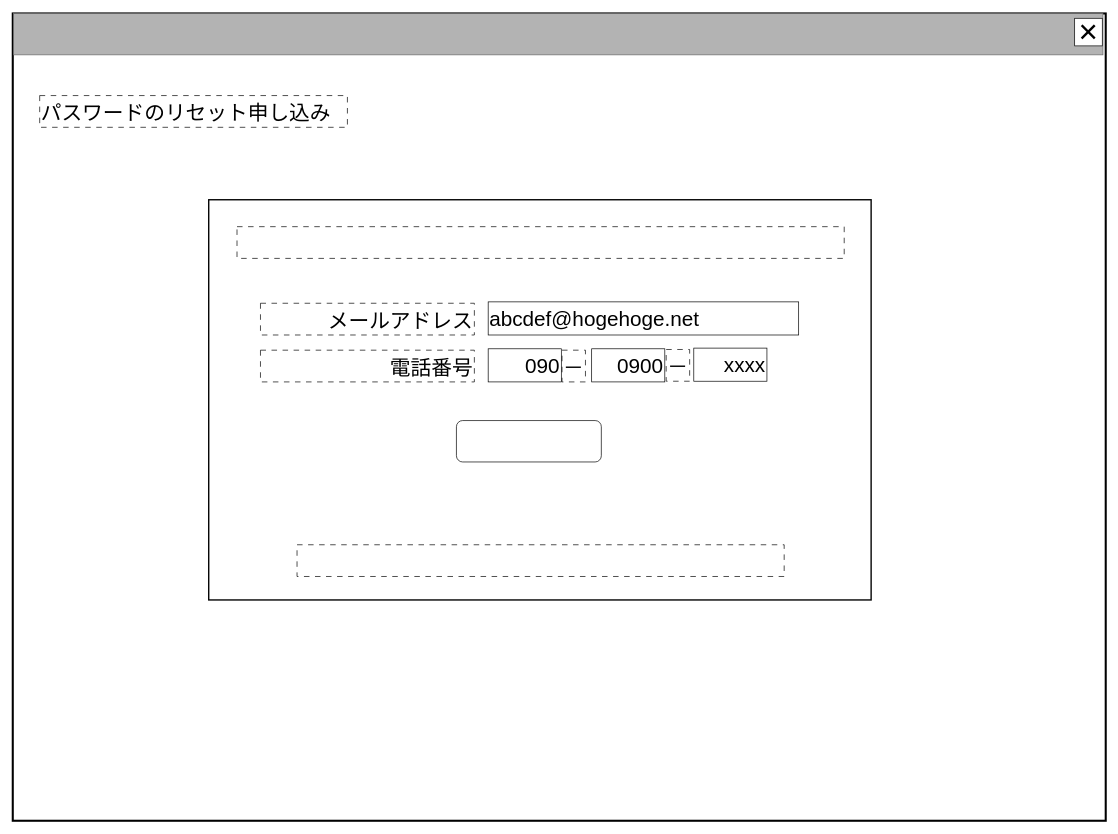
Some shapes in this 1118 by 834 pixel diagram are drawn without their labels. The centre of each missing label's shape, as x and y in pixels:
※ログインページに戻る: point 540,560
パスワードが不明なメールアドレスまたは電話番号を入力する: point 540,242
申請: point 528,441
